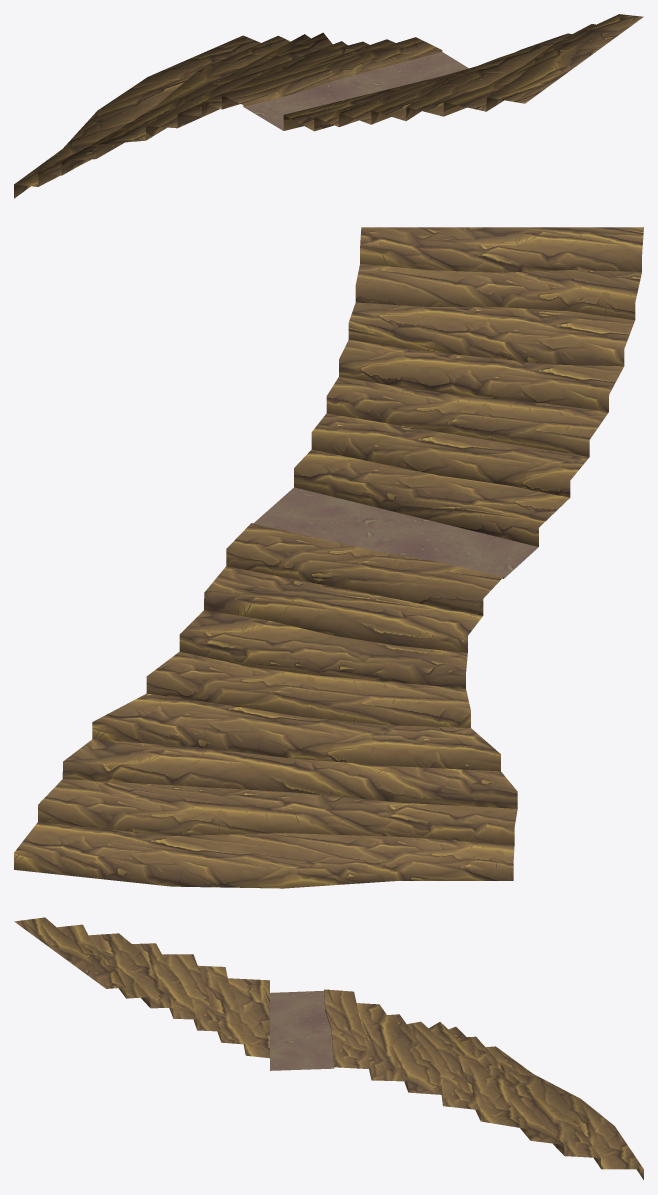
The model's file is Prop_HubArenaStair_01.FBX.
The picture shows the model from 3 angles, top to bottom: view 1: azimuth 30°, elevation 25°; view 2: azimuth 150°, elevation 25°; view 3: azimuth 270°, elevation 25°; orthographic projection. The views are drawn at different scales.
Visible parts, largest first — view 1: Prop_HubArenaStair_01; view 2: Prop_HubArenaStair_01; view 3: Prop_HubArenaStair_01.
Part boxes in pixels (x1,y1,x2,y2): Prop_HubArenaStair_01: (14, 14, 643, 198); Prop_HubArenaStair_01: (14, 227, 643, 888); Prop_HubArenaStair_01: (14, 917, 643, 1179).
Bounding box in the file's own units: 8.71 × 6 × 16.15.
